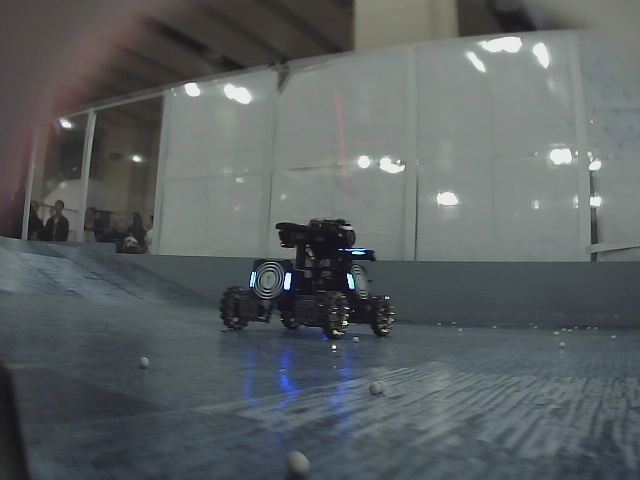lamp: (247, 270, 257, 289), (346, 273, 356, 291), (283, 270, 291, 291)
pair: (250, 271, 291, 289)
